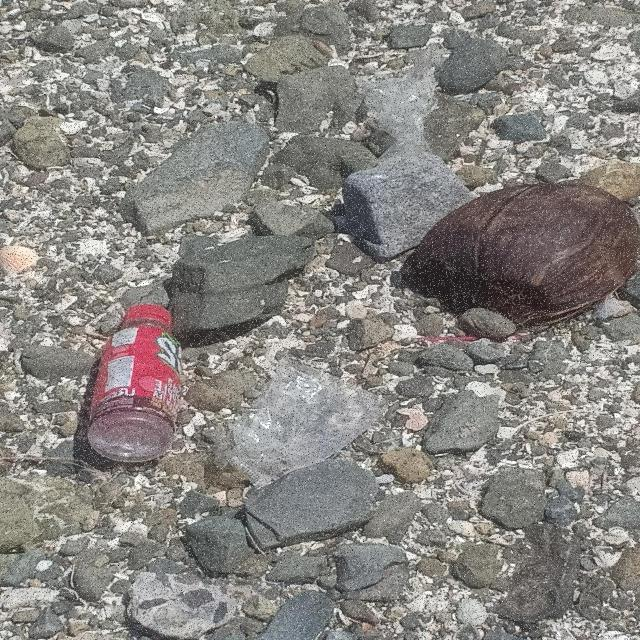plastic_waste: (210, 355, 394, 490), (86, 304, 184, 464)
